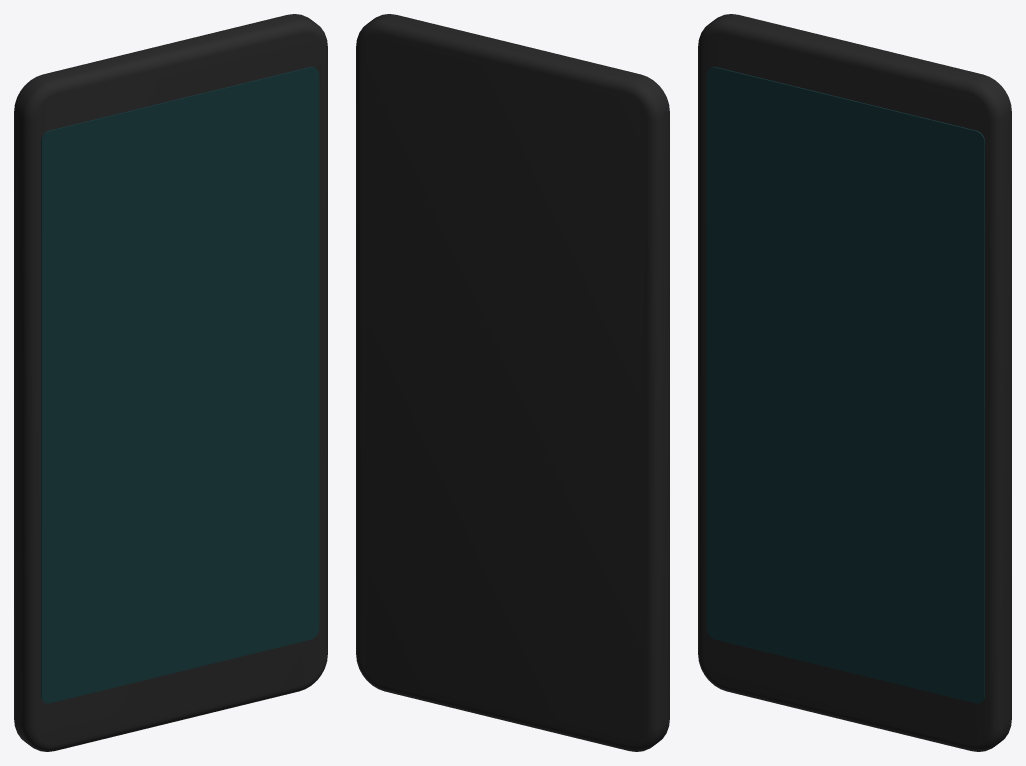
The picture shows the model from 3 angles, left to right: view 1: azimuth 30°, elevation 25°; view 2: azimuth 150°, elevation 25°; view 3: azimuth 330°, elevation 25°; orthographic projection.
Parts seen in each view (by area): view 1: phone; view 2: phone; view 3: phone.
Part boxes in pixels (left/top/right/bottom): phone: left=14, top=14, right=327, bottom=751; phone: left=356, top=14, right=669, bottom=751; phone: left=698, top=14, right=1011, bottom=751.
Bounding box in the file's own units: 0.0712 × 0.15 × 0.00735.
